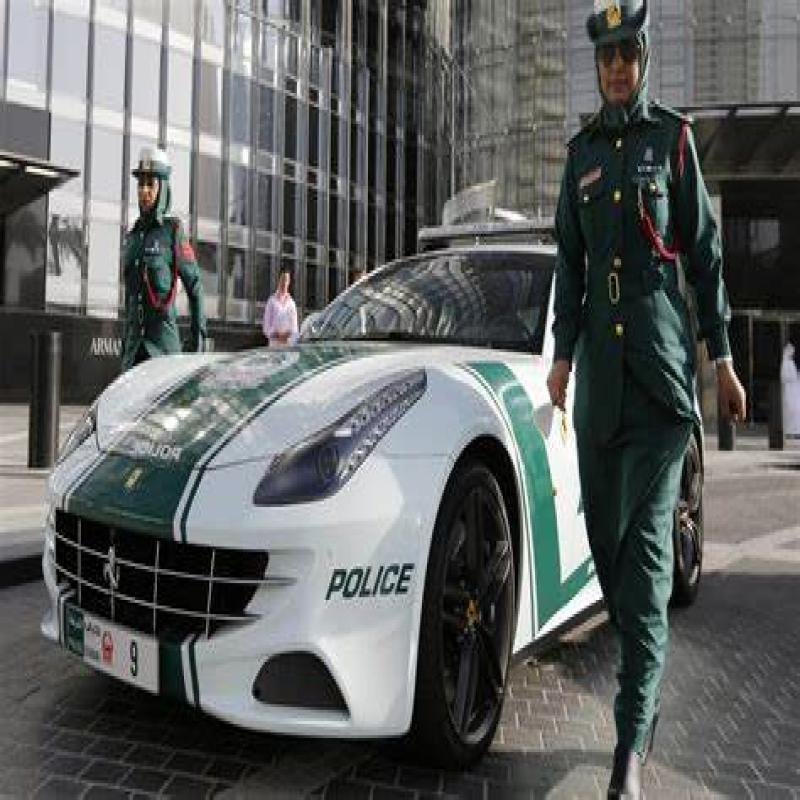AmbulanceSiren: (403, 196, 547, 255)
